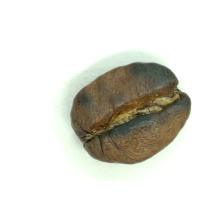NG: (104, 95, 191, 133), (128, 61, 180, 90)
